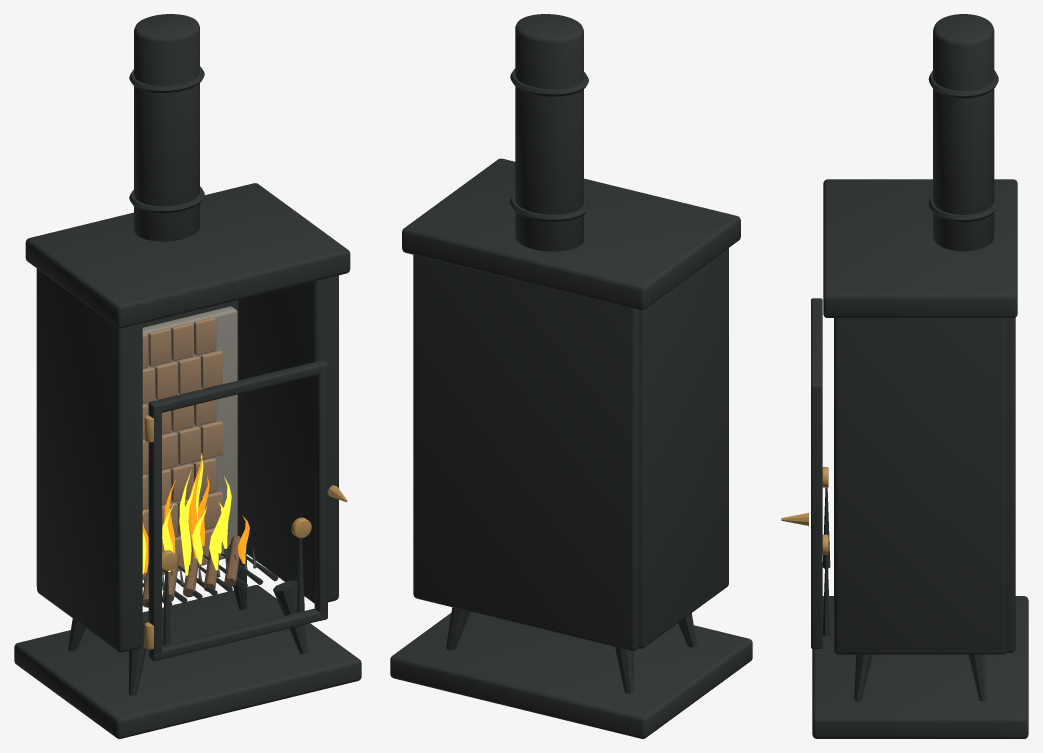
Rendered from wood-stove.glb.
3 renders of one model, left to right at view 1: azimuth 30°, elevation 25°; view 2: azimuth 150°, elevation 25°; view 3: azimuth 270°, elevation 25°, orthographic. The views are drawn at different scales.
Visible parts, largest first — view 1: catalog_surface_RealismUV, catalog_surface_UVMap; view 2: catalog_surface_RealismUV; view 3: catalog_surface_RealismUV.
Part boxes in pixels (<box>): catalog_surface_RealismUV: <box>14,14,361,738</box>; catalog_surface_UVMap: <box>142,453,256,590</box>; catalog_surface_RealismUV: <box>390,14,752,738</box>; catalog_surface_RealismUV: <box>781,14,1028,738</box>.
Size of the model in its own units: 0.65 by 1.6 by 0.55.
